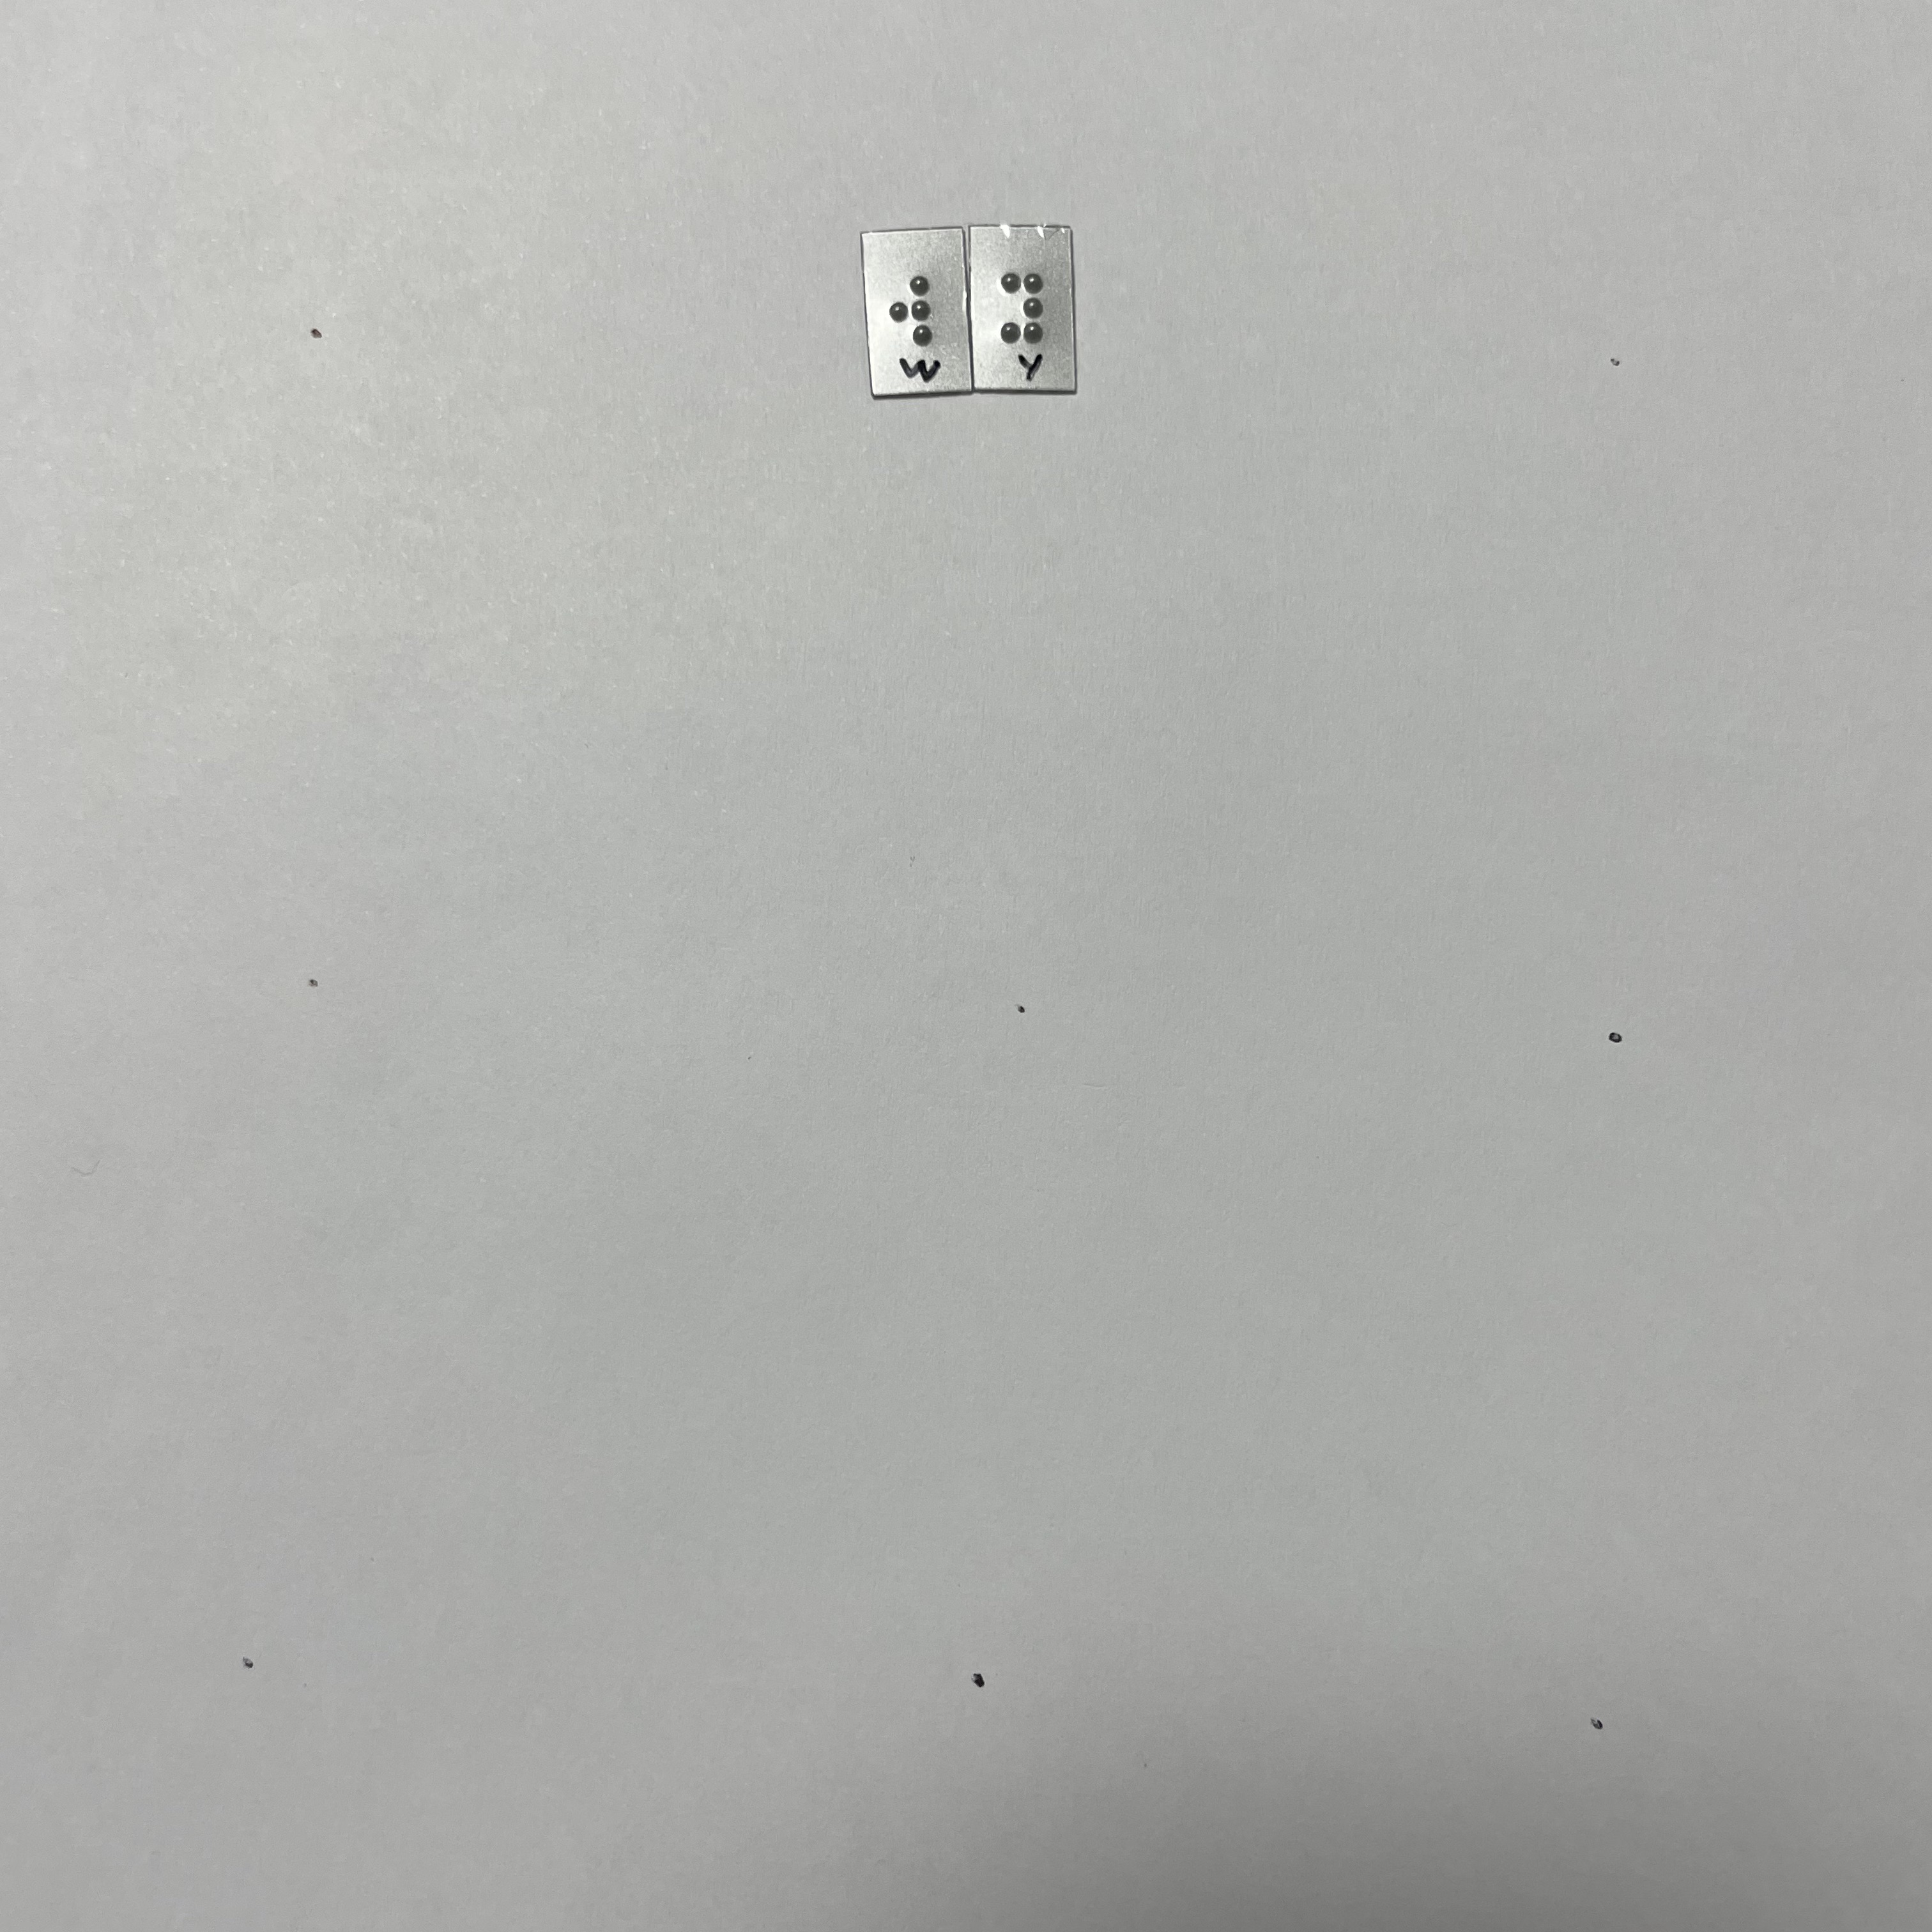w: (884, 262, 944, 356)
y: (996, 268, 1049, 348)
